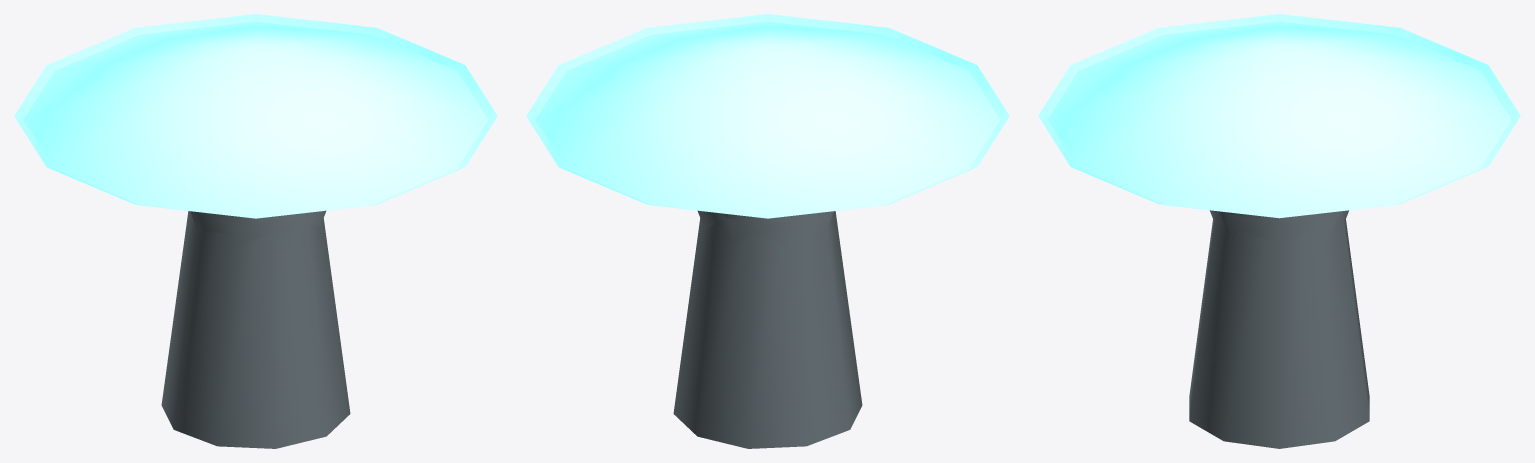
Rendered from bioluminescent_fungus.glb.
3 views of the same model, side by side, from view 1: azimuth 30°, elevation 25°; view 2: azimuth 150°, elevation 25°; view 3: azimuth 270°, elevation 25° (orthographic).
Visible parts, largest first — view 1: RootNode; view 2: RootNode; view 3: RootNode.
Boxes of the visible parts, box(x1,y1,x2,y2) form: RootNode: box(14, 14, 497, 448); RootNode: box(526, 14, 1009, 448); RootNode: box(1038, 14, 1520, 448).
Bounding box in the file's own units: 2.8 × 2.3 × 2.8.
